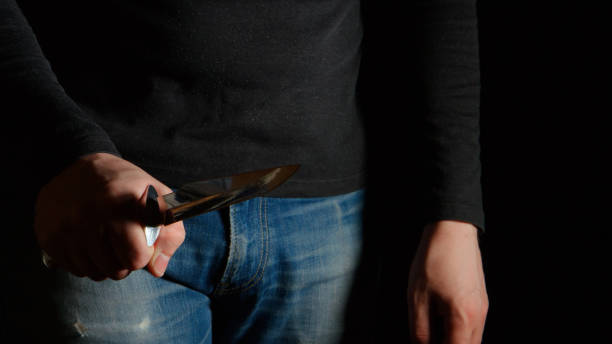knife: (138, 161, 306, 248)
